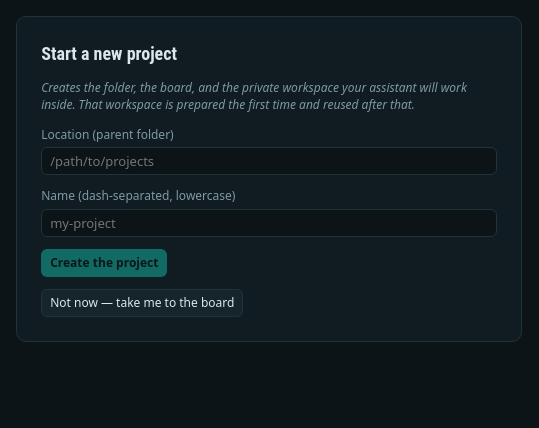
Test case: a refusal from the server › lands under the field in the words the server used, and nothing throws
In the field labelled "Location (parent folder)": [269, 161] box [41,147,497,175], type "/data/projects"
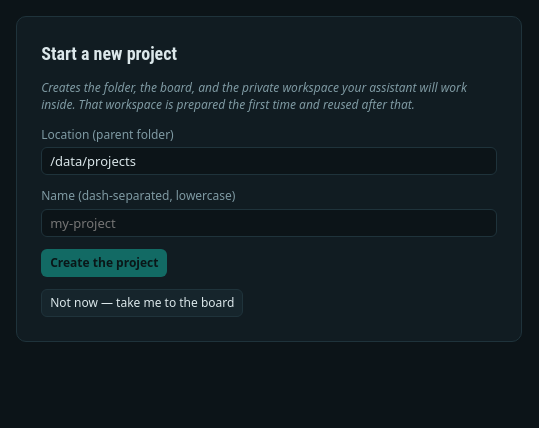
In the field labelled "Name (dash-separated, lowercase)": [269, 223] box [41,209,497,237], type "calculator"
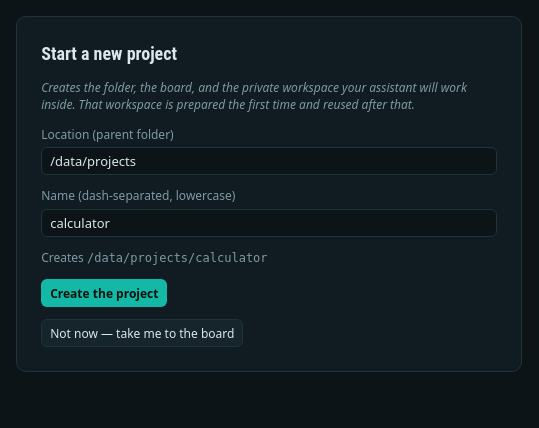
Click the button "Create the project": [104, 293] box [41,279,168,307]
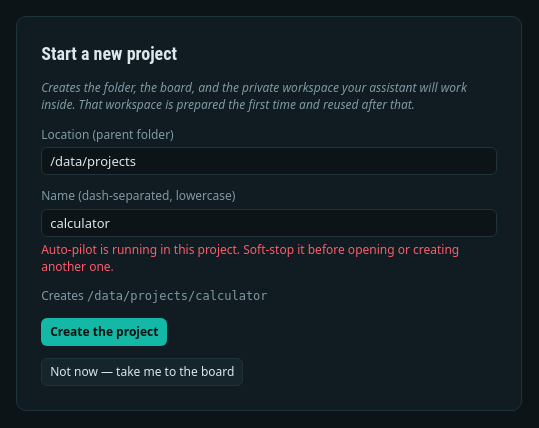
Now the text "Auto-pilot is running in this project. Soft-stop it before opening or creating another one." is shown, box [41,241,459,275]
